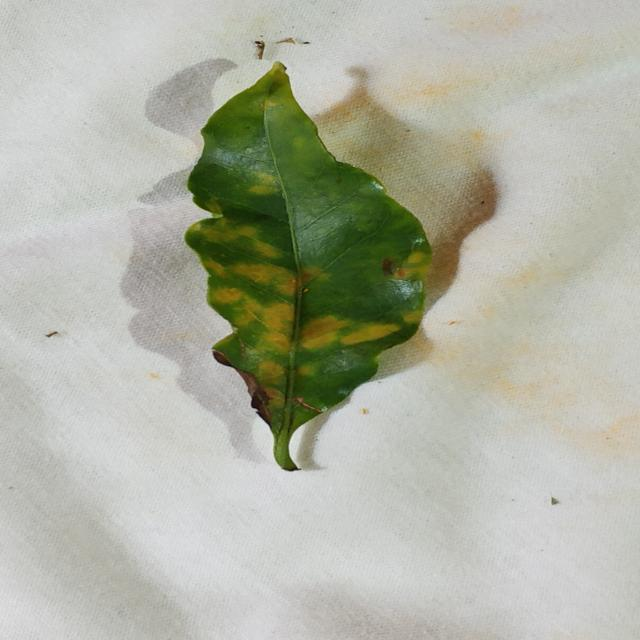Enfermedad-Roya: (183, 63, 435, 472)
